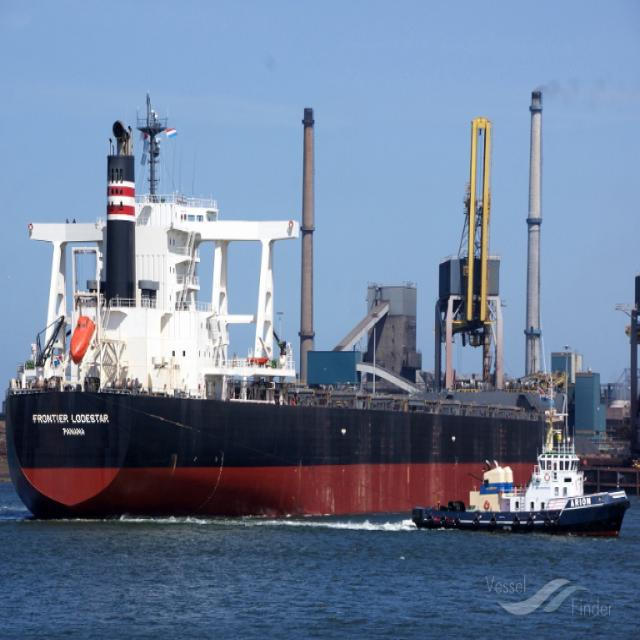OCR: (28, 404, 118, 448)
